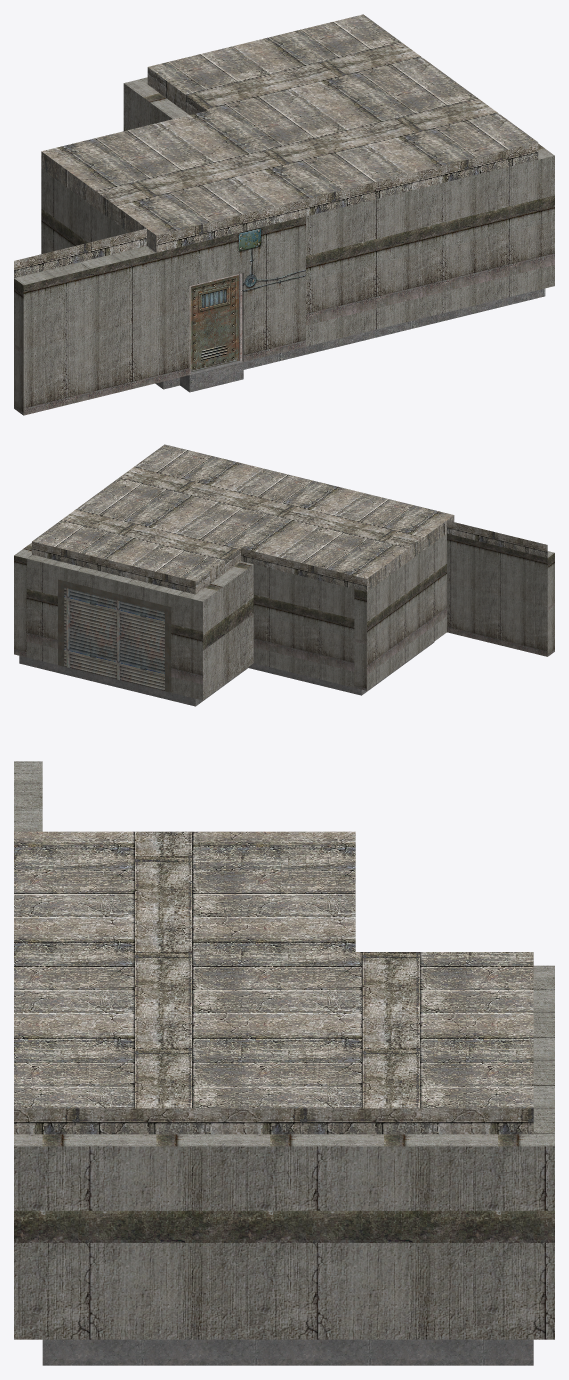
File: map_hol.FBX
3 renders of one model, top to bottom at view 1: azimuth 30°, elevation 25°; view 2: azimuth 150°, elevation 25°; view 3: azimuth 270°, elevation 25°, orthographic. The views are drawn at different scales.
Parts seen in each view (by area): view 1: map_hol; view 2: map_hol; view 3: map_hol.
Part boxes in pixels (box(x1,y1,x2,y2)): map_hol: box(14, 14, 554, 415); map_hol: box(14, 444, 554, 706); map_hol: box(14, 761, 554, 1365).
Size of the model in its own units: 1024 by 608 by 304.
